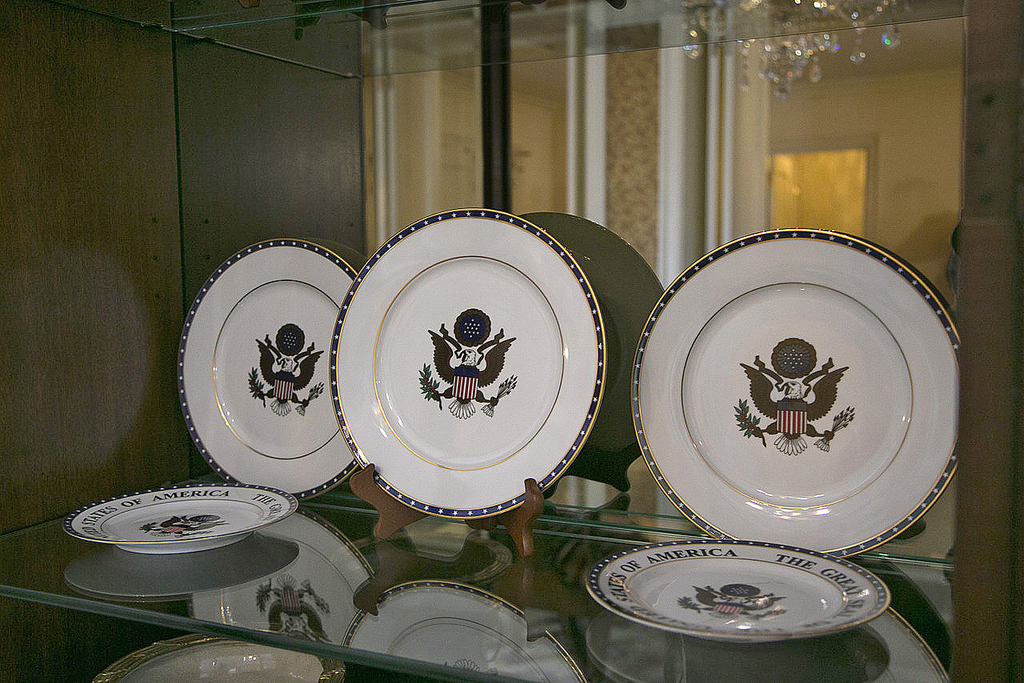plate: (654, 236, 945, 539), (583, 541, 893, 638), (64, 487, 299, 553)
